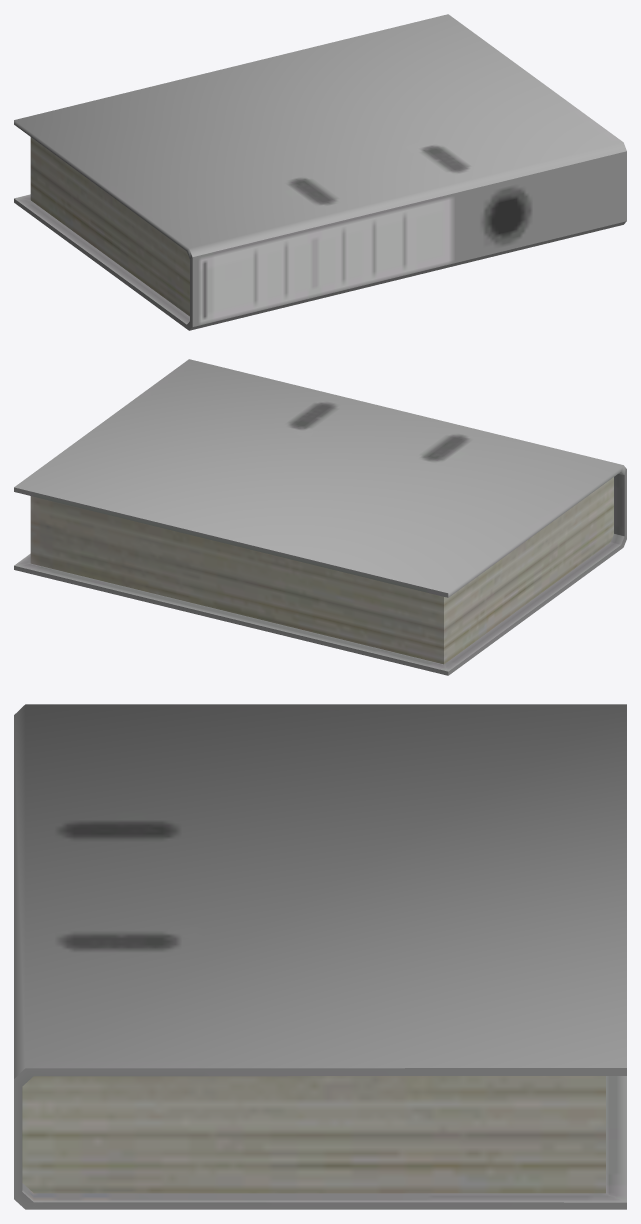
The model's file is propBinder.fbx.
The picture shows the model from 3 angles, top to bottom: view 1: azimuth 30°, elevation 25°; view 2: azimuth 150°, elevation 25°; view 3: azimuth 270°, elevation 25°; orthographic projection. The views are drawn at different scales.
Parts seen in each view (by area): view 1: propBinder; view 2: propBinder; view 3: propBinder.
Boxes of the visible parts, bbox=[...] form: propBinder: bbox=[14, 14, 626, 330]; propBinder: bbox=[14, 359, 626, 675]; propBinder: bbox=[14, 704, 626, 1209].
Size of the model in its own units: 34.24 by 6.21 by 24.37.
Materials: 1 (1 with a texture image).
